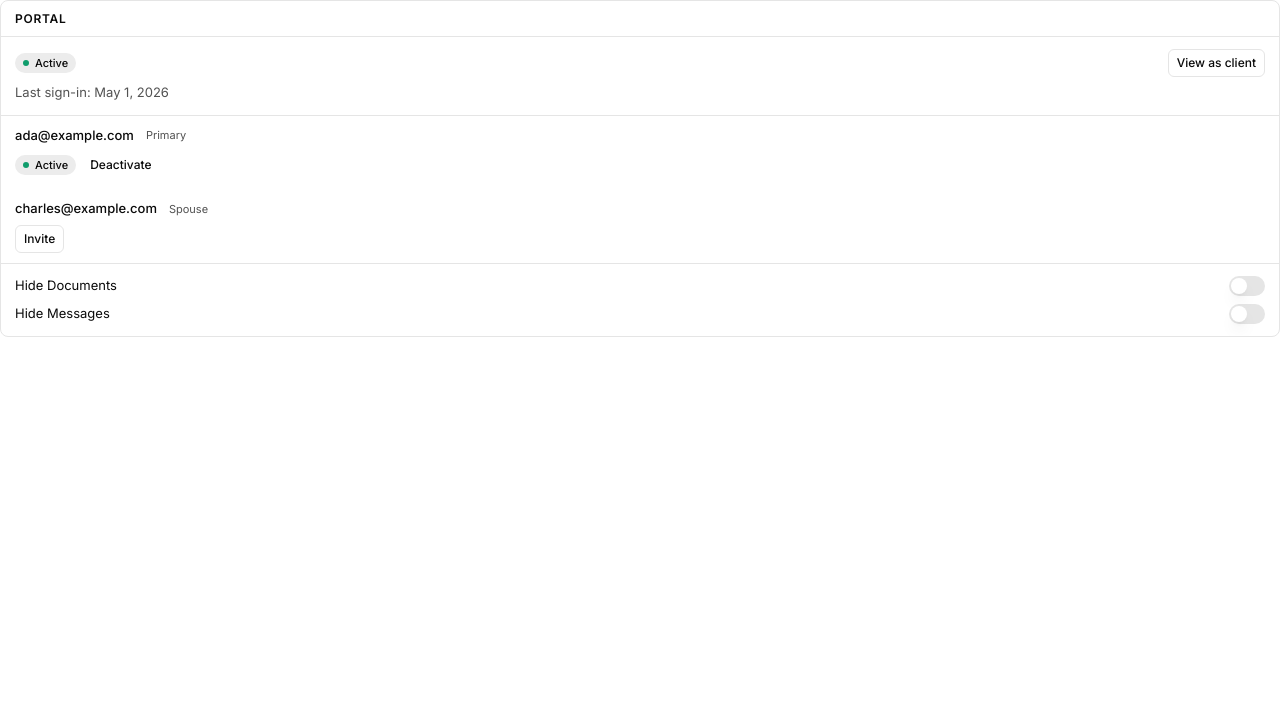
PortalAccessPanel › shows the link to copy when the email did not go out
The image size is (1280, 720).
Click the button with aria-label "Invite charles@example.com": [40, 238] box [15,224,64,252]
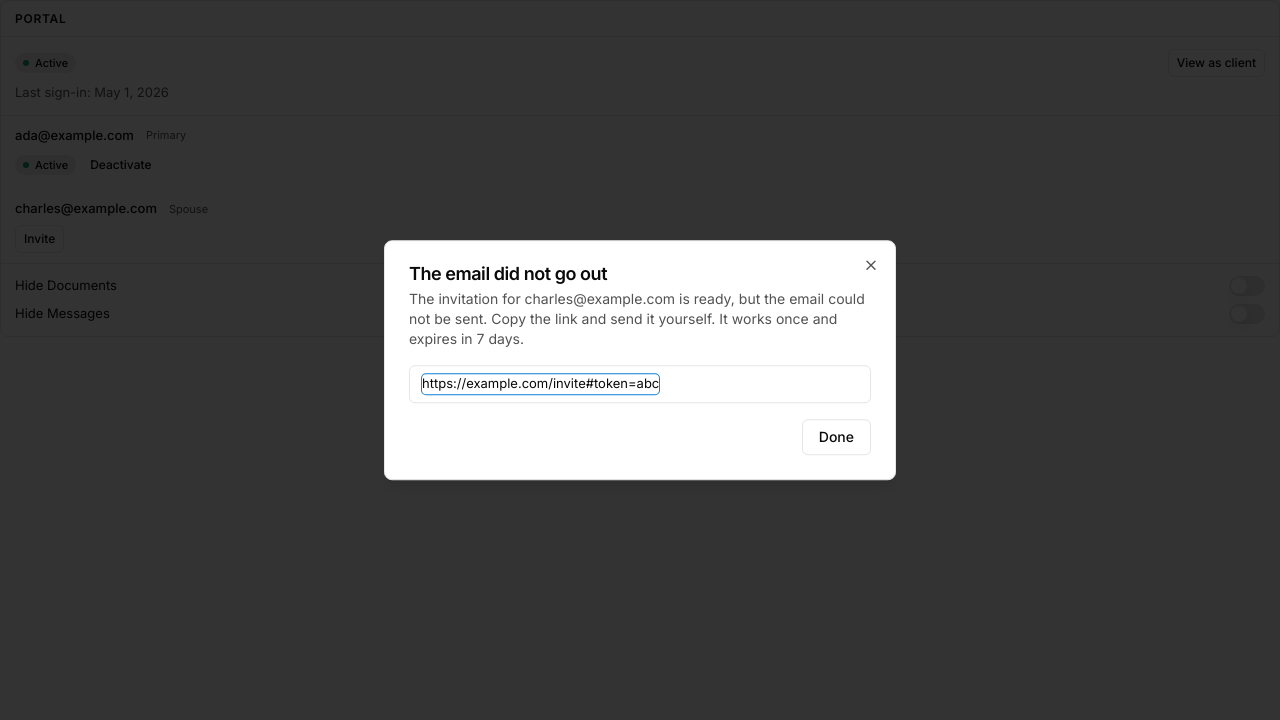
expect the heading "The email did not go out" is shown: met, box [409,263,607,284]
expect the button with aria-label "Copy invitation link: https://example.com/invite#token=abc" is shown: met, box [422,374,659,394]
